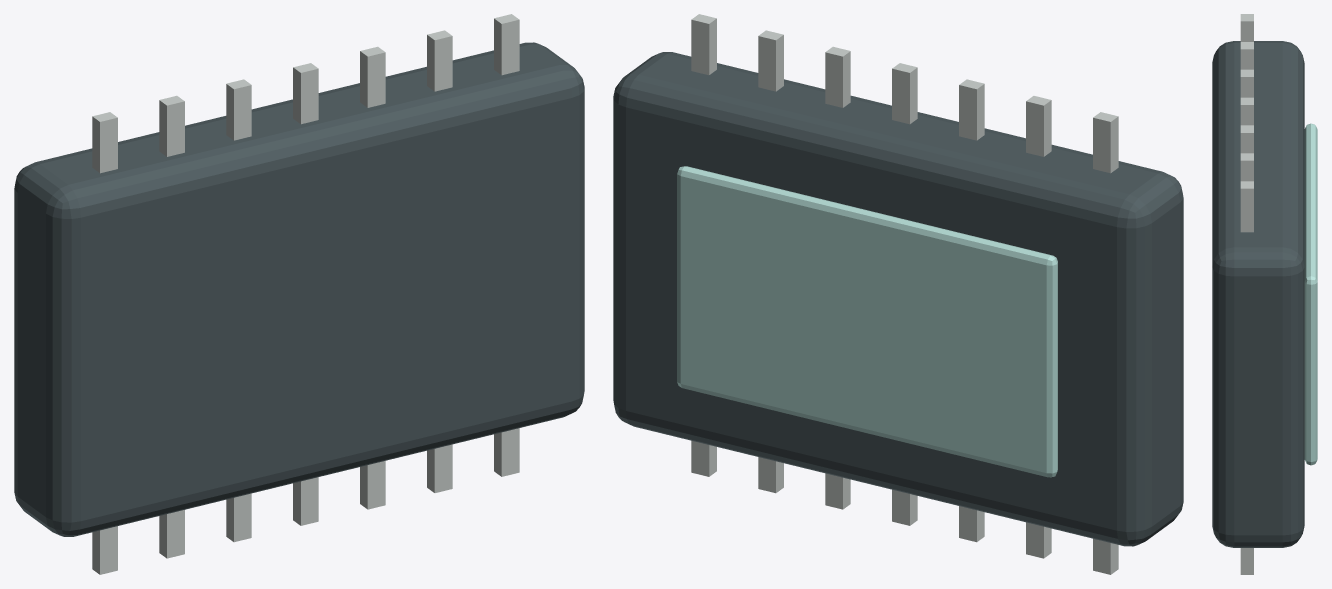
The model's file is tee.glb.
3 renders of one model, left to right at view 1: azimuth 30°, elevation 25°; view 2: azimuth 150°, elevation 25°; view 3: azimuth 270°, elevation 25°, orthographic. The views are drawn at different scales.
Parts seen in each view (by area): view 1: tee_body, tee_pins; view 2: tee_body, tee_lid, tee_pins; view 3: tee_body, tee_lid, tee_pins.
Part boxes in pixels (x1,y1,x2,y2): tee_body: (14,42,584,536); tee_pins: (92,14,519,574); tee_body: (613,52,1183,546); tee_lid: (677,166,1057,477); tee_pins: (691,14,1118,574); tee_body: (1212,41,1304,547); tee_lid: (1304,123,1317,465); tee_pins: (1240,14,1253,574).
Bounding box in the file's own units: 2.4 × 1.94 × 0.48.
